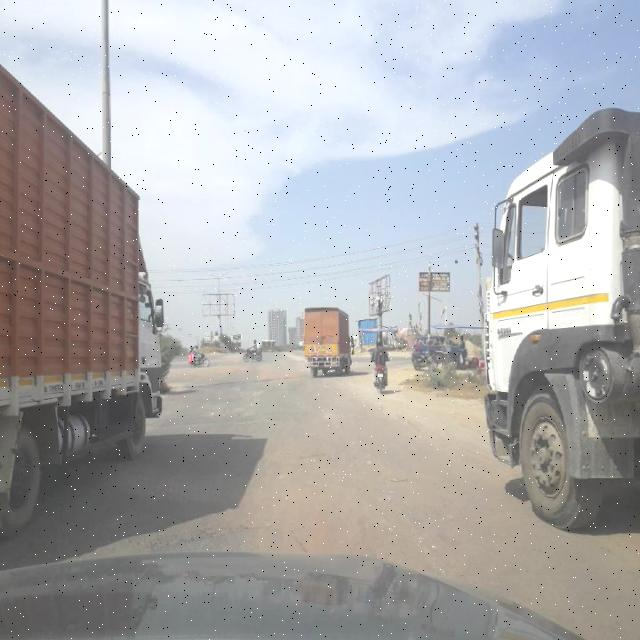D40: (97, 502, 251, 547)
